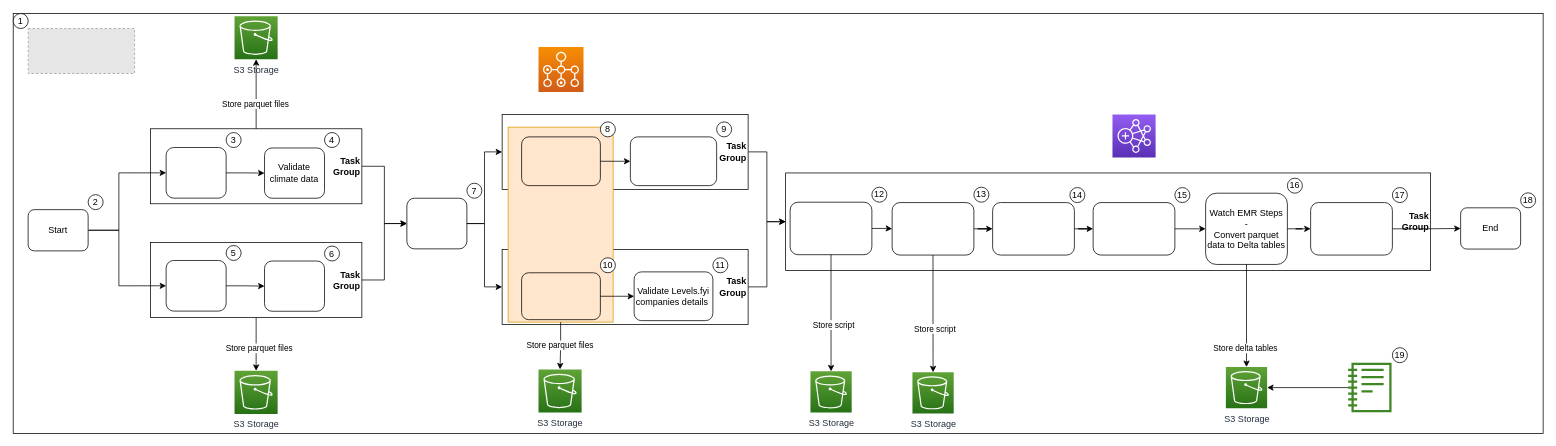
Image size: 1556x446. Some labels were removed from this diagram. Grey dashed boxes stand in for pictures. Here are the shapes that lost their labels. From the top down, the centre of each, then its label:
(561,69): AWS Batch
(1134,136): EMR Cluster (Spark)
(195,172): Download historical climate data (CSV)
(560,161): Scrap Teamblind companies details
(673,161): Validate Teamblind companies details
(436,223): Join get data operations
(830,228): Upload EMR bootstrap script to S3
(932,228): Upload EMR ETL script to S3
(1033,228): Create EMR Cluster
(1133,228): Add EMR Steps
(1351,228): Terminate EMR Cluster
(195,285): Scrap Teamblind companies list
(294,285): Validate Teamblind companies list
(560,296): Scrap Levels.fyi companies details
(1369,387): Jupyter Notebook
